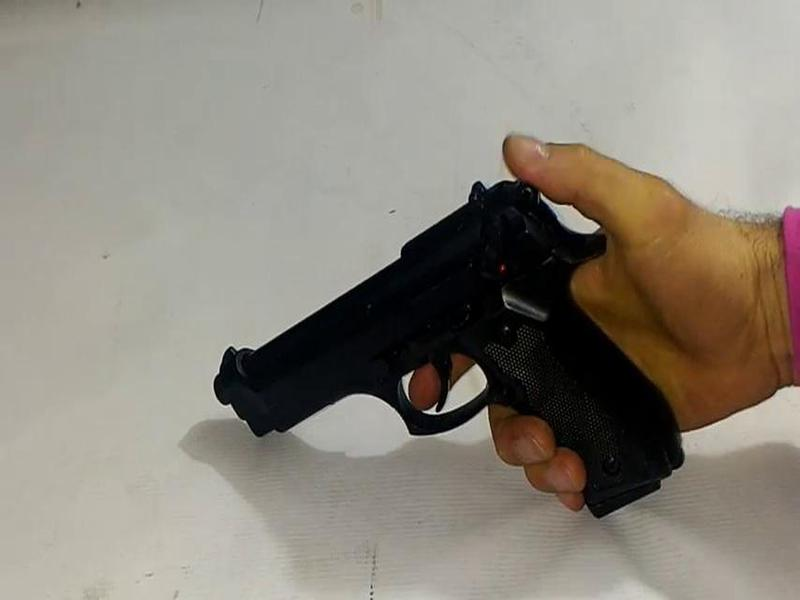Pistola: (201, 163, 701, 541)
